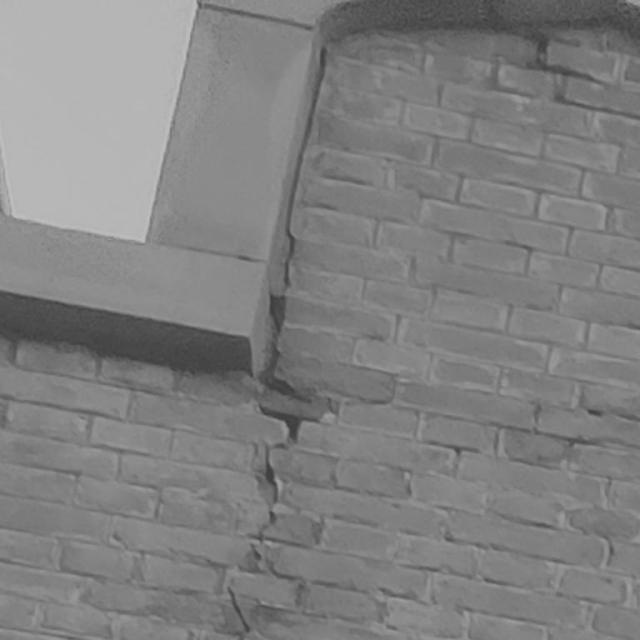crack: (227, 45, 326, 640), (504, 29, 601, 83)
